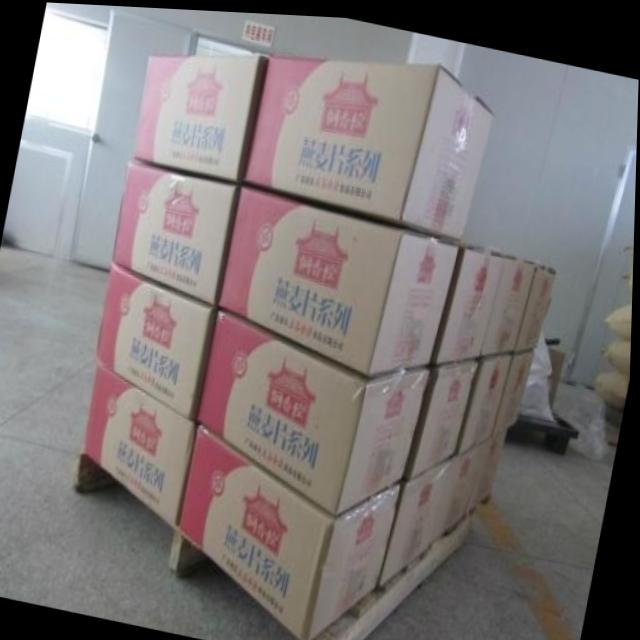box: (199, 307, 433, 514), (181, 423, 404, 640), (244, 51, 498, 237), (220, 186, 461, 373), (97, 261, 220, 419), (83, 362, 199, 526), (114, 157, 237, 302), (133, 53, 268, 183), (380, 453, 456, 584), (406, 354, 482, 476), (433, 240, 506, 359), (456, 348, 515, 453), (483, 249, 539, 352), (439, 440, 485, 536), (516, 256, 559, 349), (494, 346, 537, 434), (471, 427, 508, 510)
